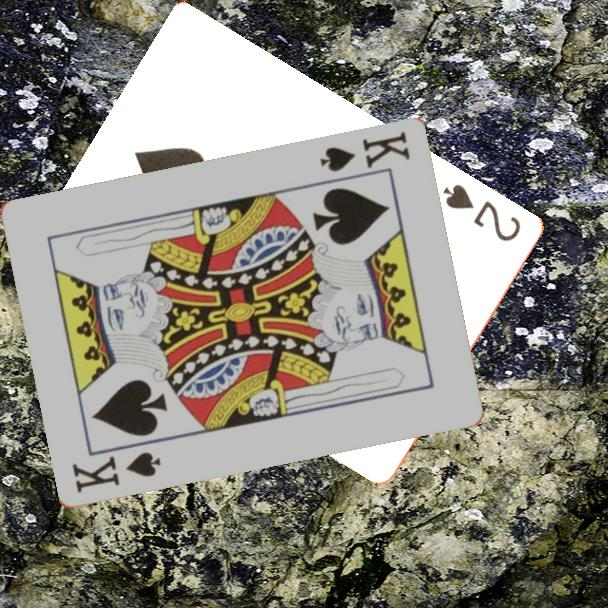s02: (440, 180, 525, 245)
s13: (68, 448, 164, 497), (316, 128, 413, 176)
